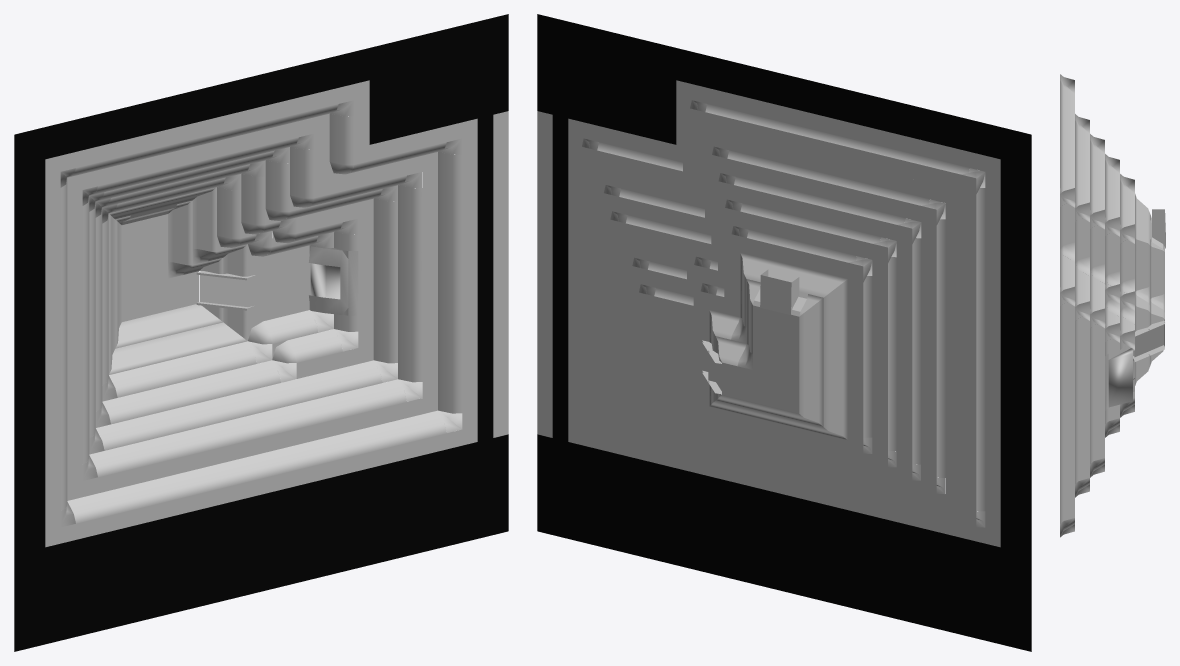
The model's file is Subterranean-Passages_01_00.obj.
The picture shows the model from 3 angles, left to right: view 1: azimuth 30°, elevation 25°; view 2: azimuth 150°, elevation 25°; view 3: azimuth 270°, elevation 25°; orthographic projection. The views are drawn at different scales.
Parts seen in each view (by area): view 1: map; view 2: map; view 3: map.
Part boxes in pixels (<box>): map: <box>14,14,508,651</box>; map: <box>537,14,1031,651</box>; map: <box>1060,74,1165,537</box>.
Size of the model in its own units: 32 by 32 by 7.06.
